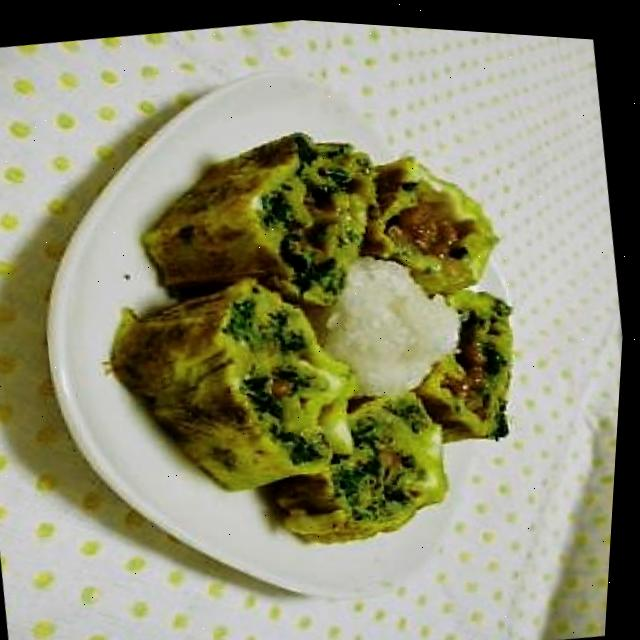鸡蛋料理: (67, 82, 575, 586)
